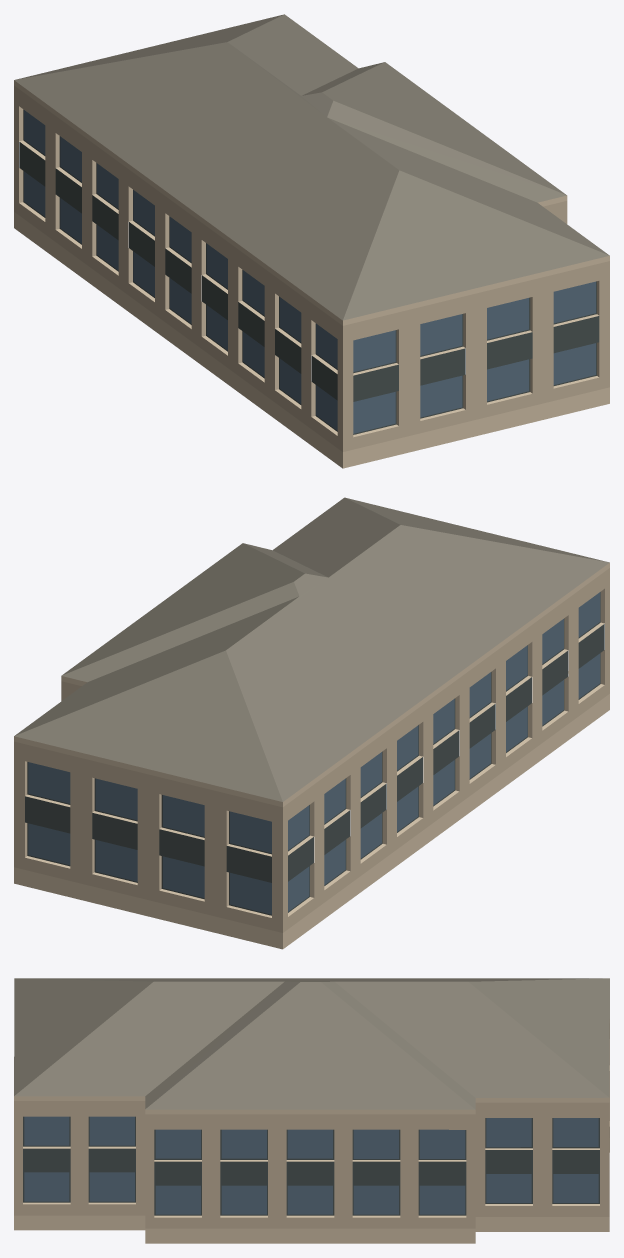
File: dc-au-east-quad-building.detail.glb
3 renders of one model, top to bottom at view 1: azimuth 30°, elevation 25°; view 2: azimuth 150°, elevation 25°; view 3: azimuth 270°, elevation 25°, orthographic. The views are drawn at different scales.
Visible parts, largest first — view 1: East Quad Building; view 2: East Quad Building; view 3: East Quad Building.
Boxes of the visible parts, x1,y1,x2,y2 form: East Quad Building: (14,14,609,468); East Quad Building: (14,497,609,949); East Quad Building: (14,978,609,1243).
Bounding box in the file's own units: 18.89 × 13.15 × 36.25.
